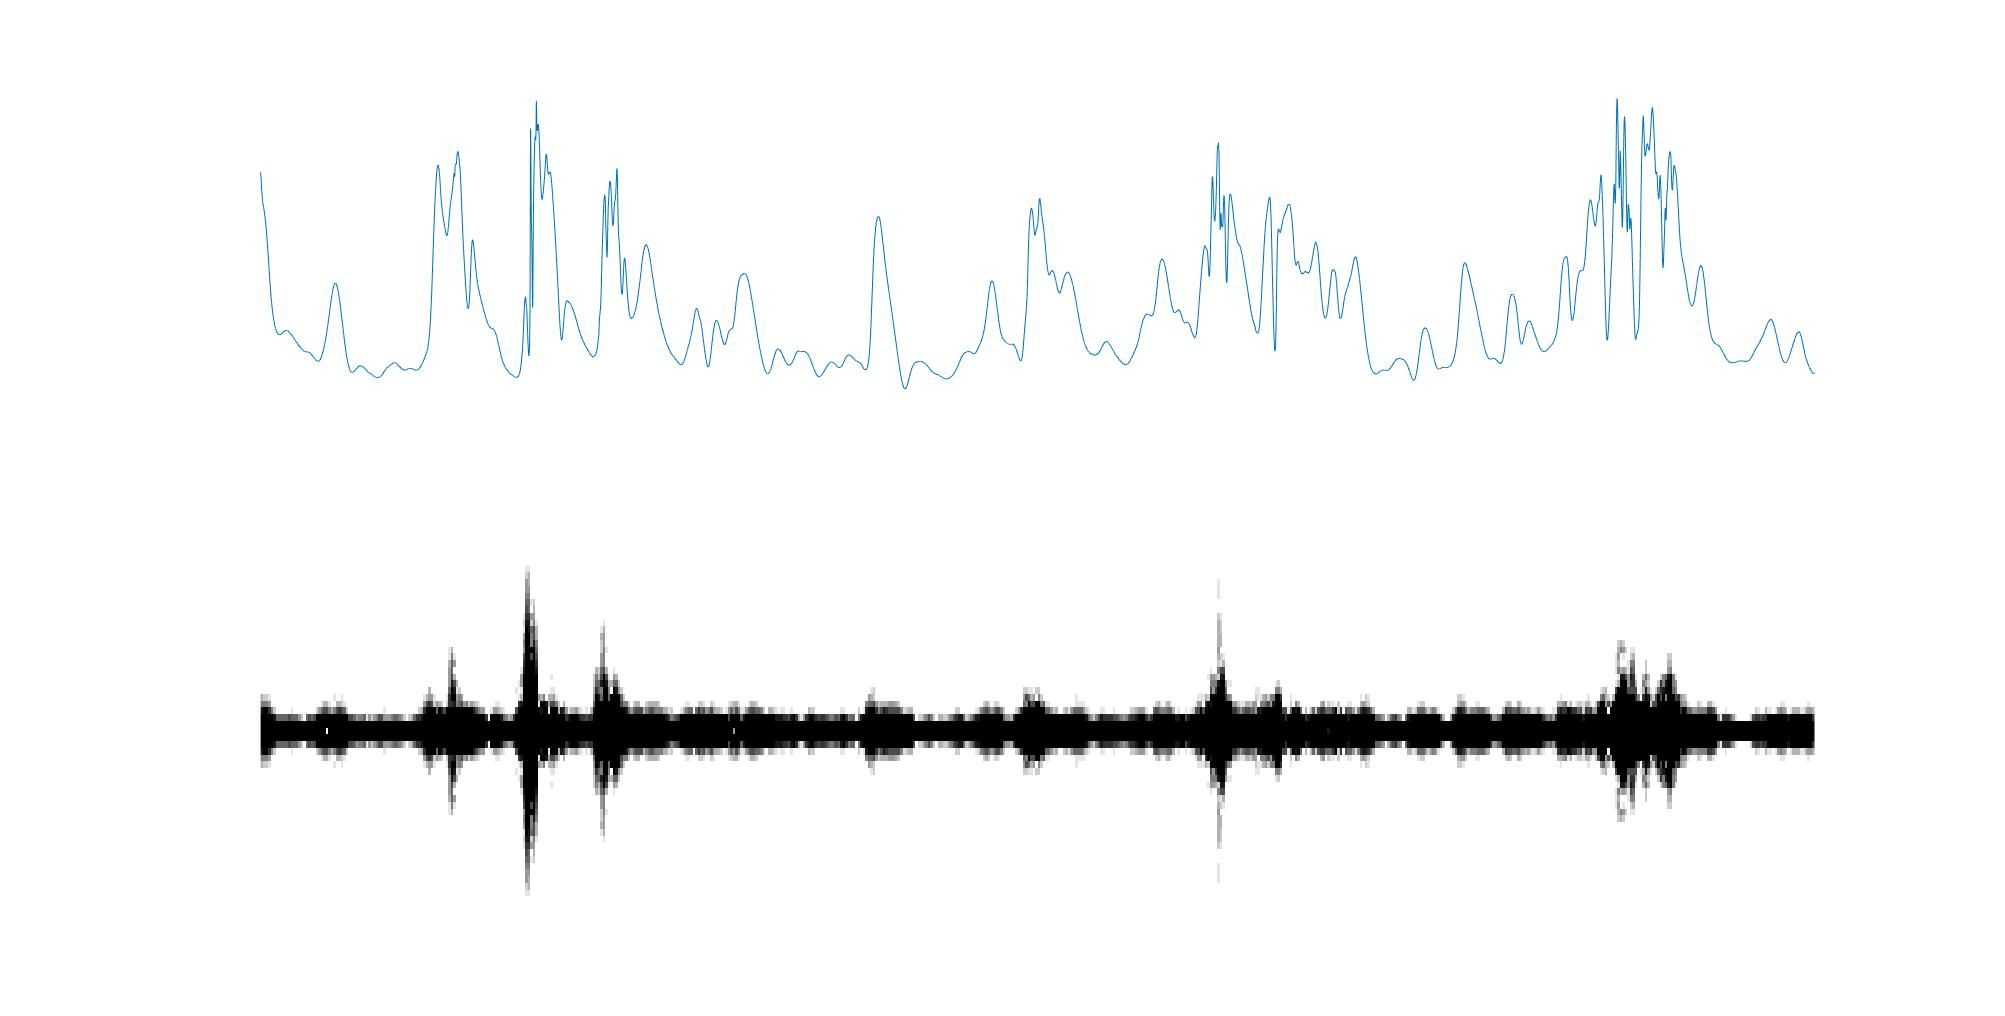spot: (1606, 632, 1684, 835), (517, 565, 544, 903)
